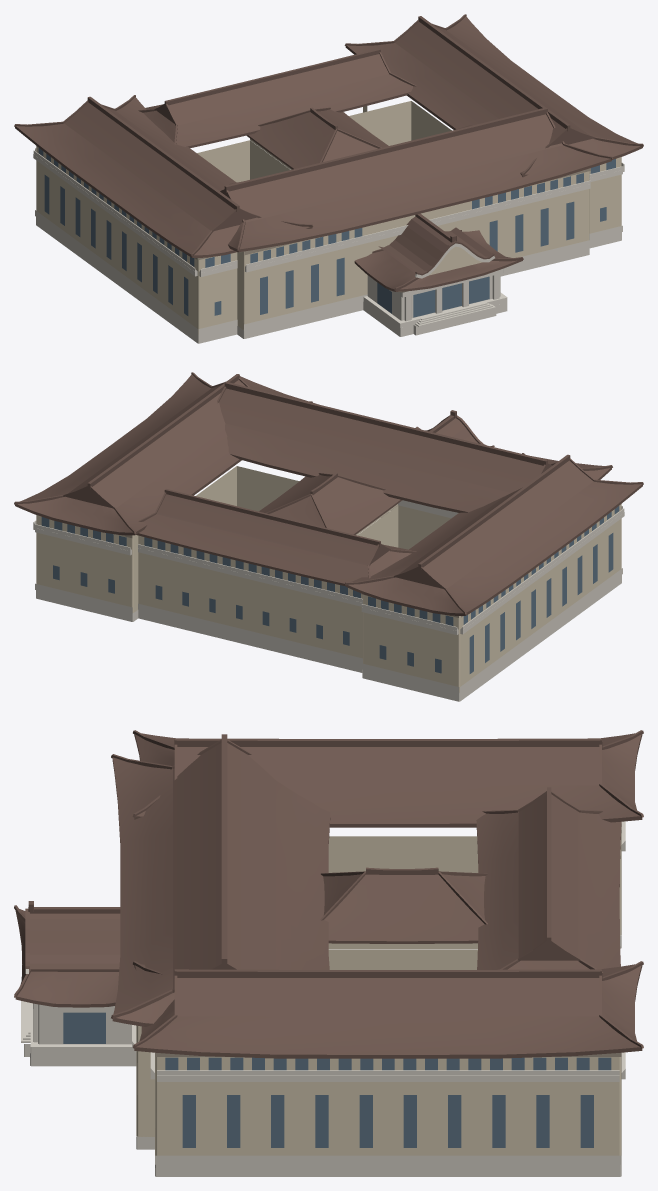
File: tokyo-national-museum.glb
3 views of the same model, one above another, from view 1: azimuth 30°, elevation 25°; view 2: azimuth 150°, elevation 25°; view 3: azimuth 270°, elevation 25° (orthographic). The views are drawn at different scales.
Parts seen in each view (by area): view 1: Tokyo National Museum, Honkan; view 2: Tokyo National Museum, Honkan; view 3: Tokyo National Museum, Honkan.
Boxes of the visible parts, x1,y1,x2,y2 form: Tokyo National Museum, Honkan: [14, 14, 643, 343]; Tokyo National Museum, Honkan: [14, 372, 643, 701]; Tokyo National Museum, Honkan: [14, 730, 643, 1176].
Bounding box in the file's own units: 123 × 33.1 × 104.
